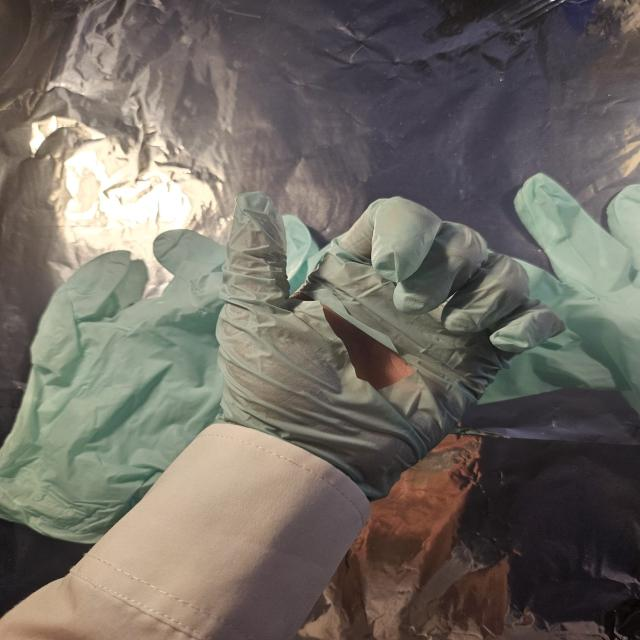gloves_damaged: (213, 189, 566, 500)
